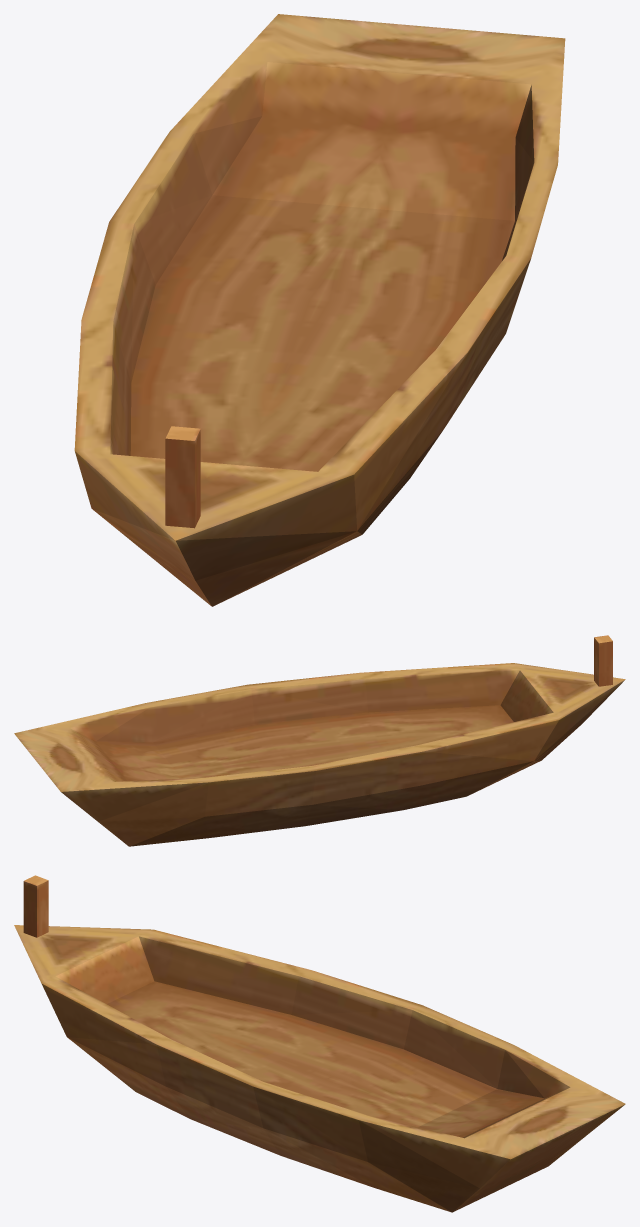
Rendered from shatan_chuan.fbx.
3 views of the same model, one above another, from view 1: azimuth 30°, elevation 25°; view 2: azimuth 150°, elevation 25°; view 3: azimuth 270°, elevation 25° (orthographic). The views are drawn at different scales.
Parts seen in each view (by area): view 1: shatan_chuan; view 2: shatan_chuan; view 3: shatan_chuan.
Boxes of the visible parts, x1,y1,x2,y2 form: shatan_chuan: [74, 14, 565, 606]; shatan_chuan: [14, 635, 625, 846]; shatan_chuan: [14, 875, 625, 1212].
Bounding box in the file's own units: 4.67 × 1.25 × 5.15.
